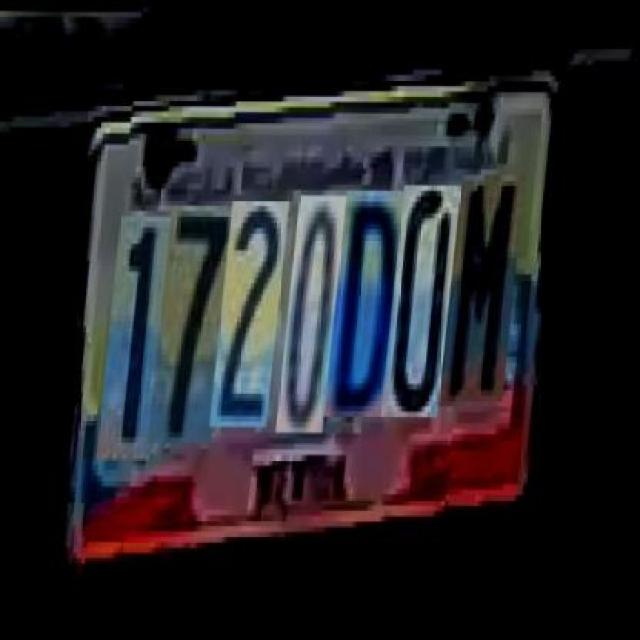0: (389, 185, 465, 417)
1: (106, 216, 179, 459)
2: (218, 200, 294, 426)
7: (157, 206, 240, 443)
d: (333, 190, 415, 416)
m: (447, 180, 528, 406)
o: (284, 195, 350, 432)
